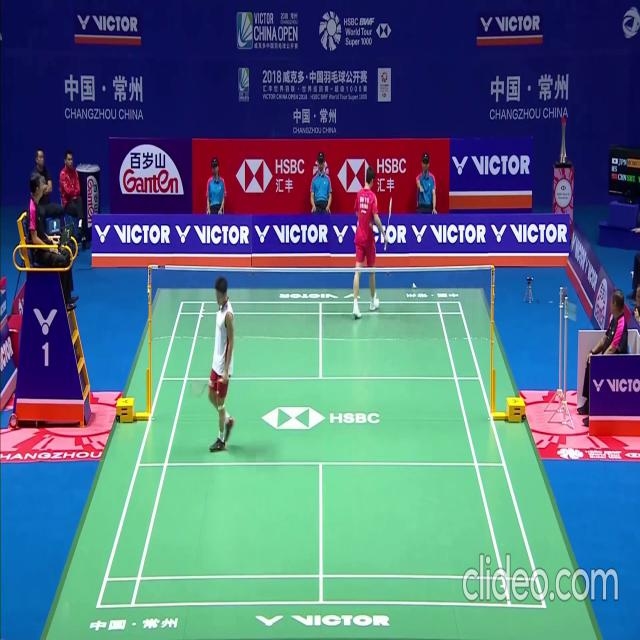Shuttlecock: (413, 284, 418, 292)
